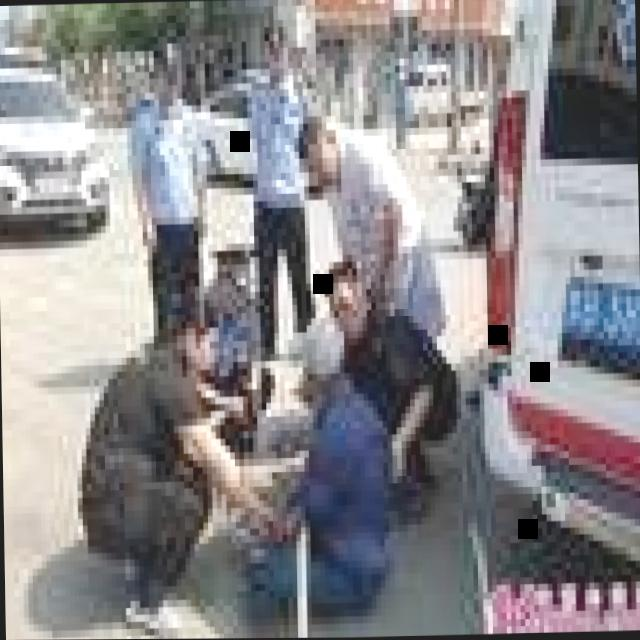Fall-Detected: (227, 295, 395, 619)
